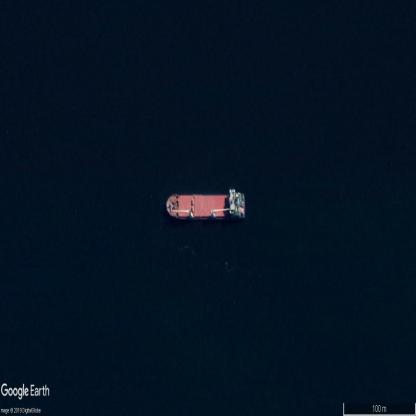ship: (166, 190, 245, 220)
